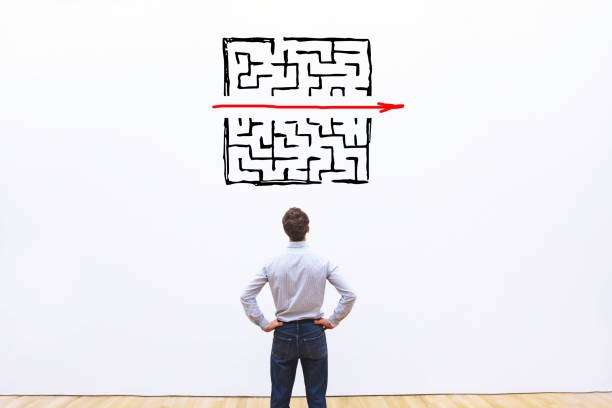maze: (224, 37, 370, 185)
